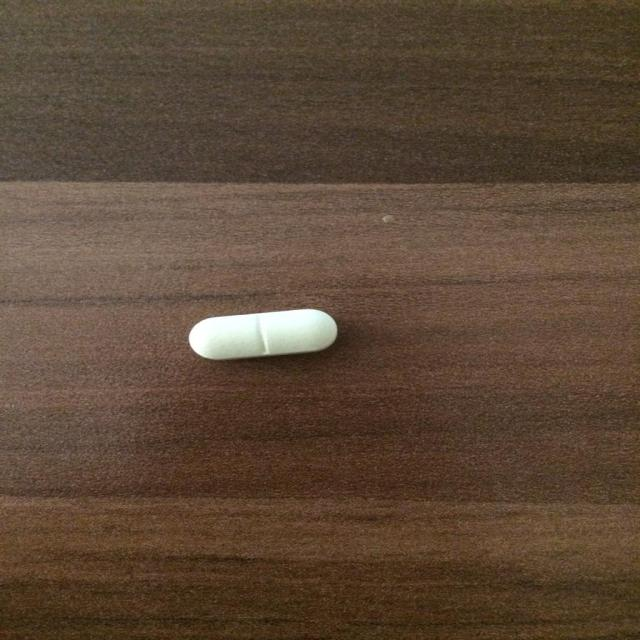pills: (177, 304, 349, 363)
